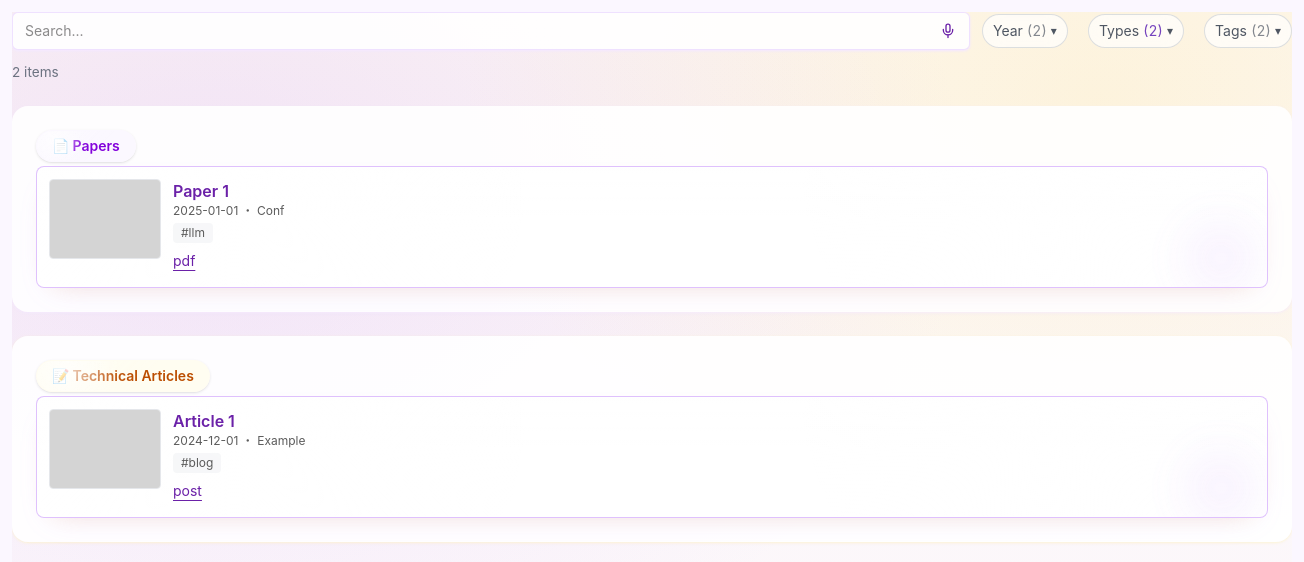
PublicationsClient › shows result summary and removable chips for active filters
Expected: the text with test id "filter-result-summary" reads "2 items", [12,64,59,80]
What coordinates should you click on to do the following:
click the heading "Tags (2) ▾"
I would click on:
 (1248, 31)
Its box is [1204,14,1292,48].
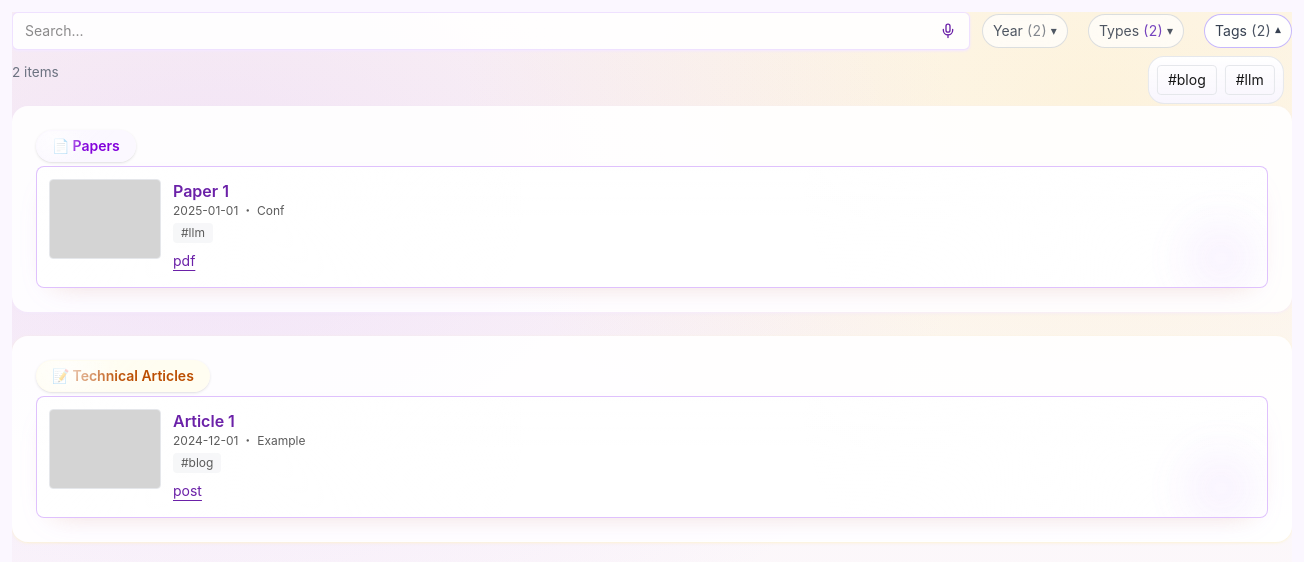
What coordinates should you click on to do the following:
click the button with aria-label "Filter by llm tag"
I would click on:
 (1250, 80)
Its box is [1225,65,1275,95].
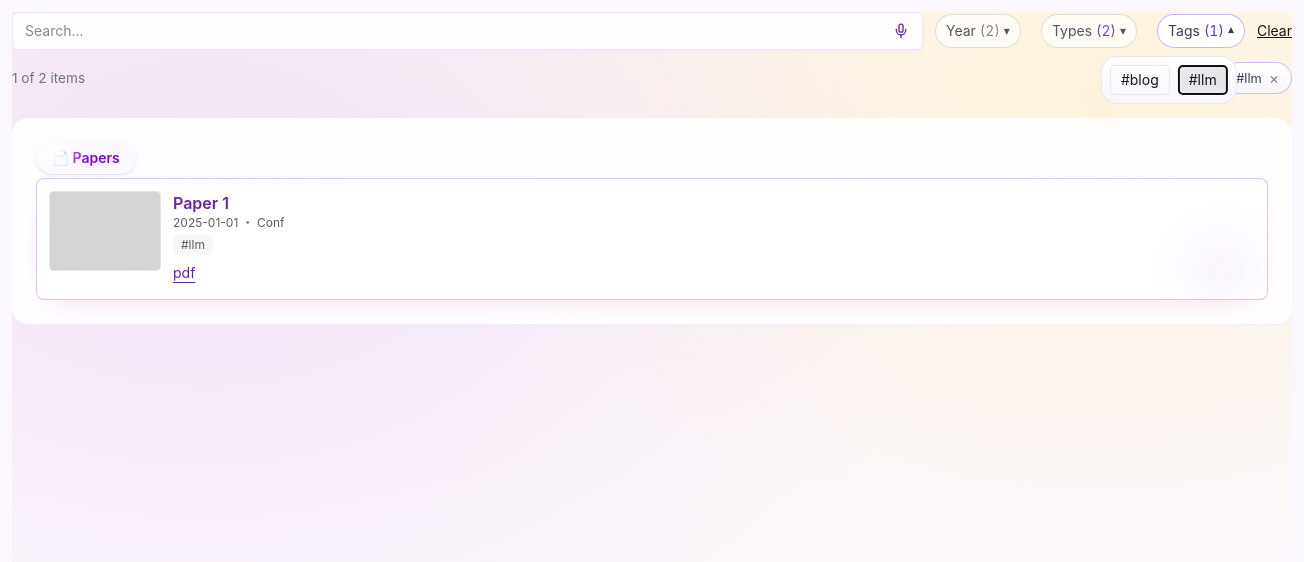
Expected: the heading "Tags (1) ▾" is shown, [1157,14,1245,48]
Expected: the text with test id "filter-result-summary" reads "1 of 2 items", [12,70,85,86]
Expected: the button with aria-label "Remove #llm" shows "#llm"
What coordinates should you click on to do the following:
click the button with aria-label "Remove #llm"
I would click on:
 (1258, 78)
Its box is [1223,62,1292,94].
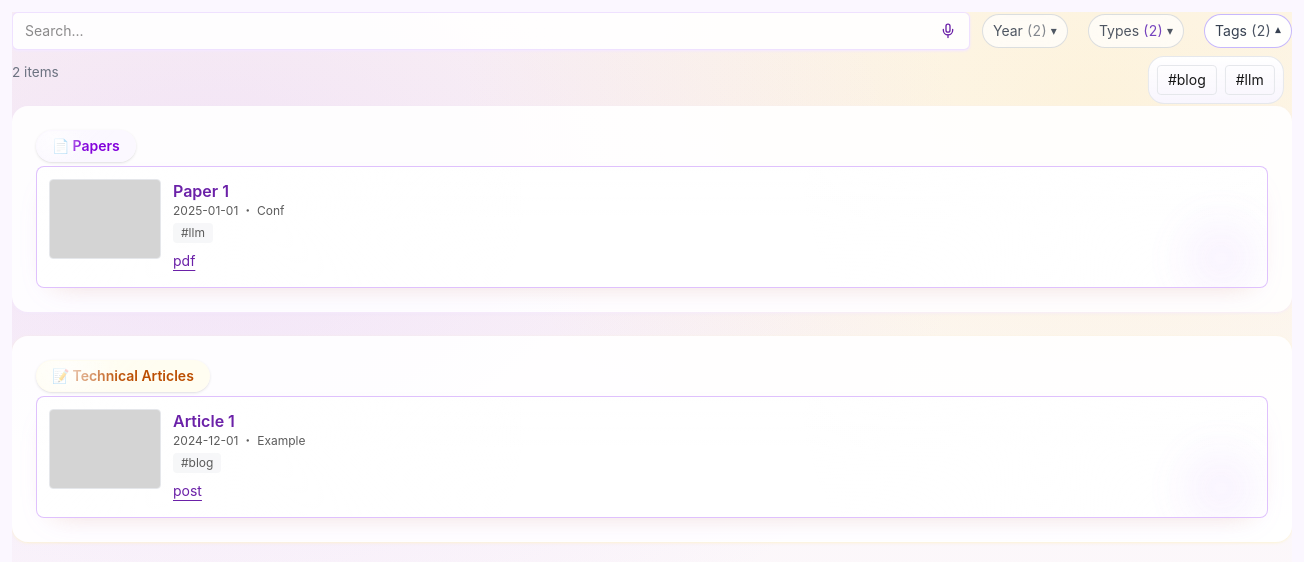
Expected: the text with test id "filter-result-summary" reads "2 items", [12,64,59,80]
